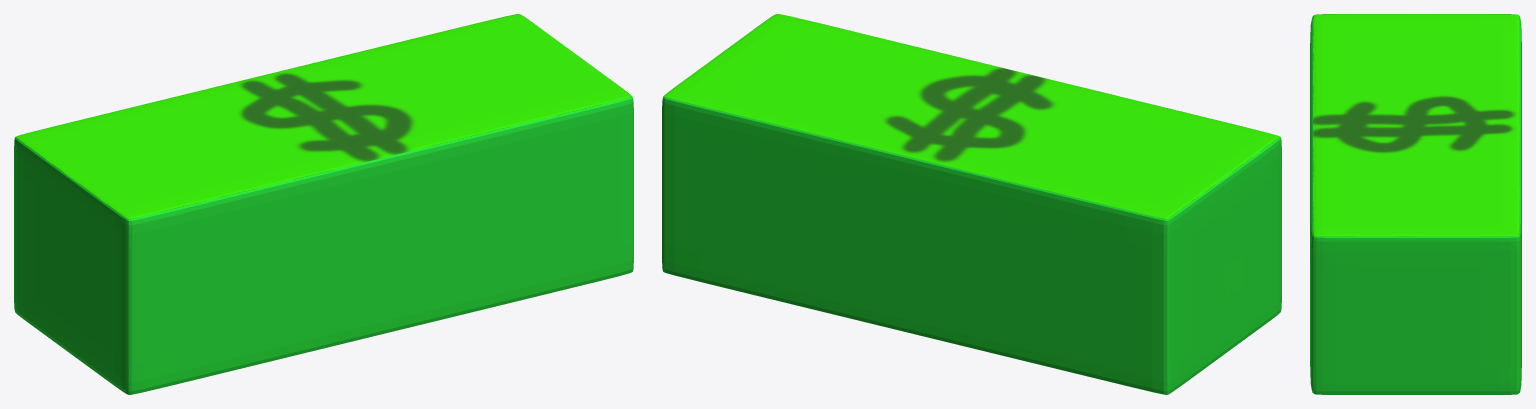
The model's file is DollarStack.fbx.
The picture shows the model from 3 angles, left to right: view 1: azimuth 30°, elevation 25°; view 2: azimuth 150°, elevation 25°; view 3: azimuth 270°, elevation 25°; orthographic projection. The views are drawn at different scales.
Parts seen in each view (by area): view 1: Cube; view 2: Cube; view 3: Cube.
Part boxes in pixels (left/top/right/bottom): Cube: left=14, top=14, right=633, bottom=394; Cube: left=662, top=14, right=1281, bottom=394; Cube: left=1310, top=14, right=1521, bottom=394.
Size of the model in its own units: 15 by 5 by 6.
